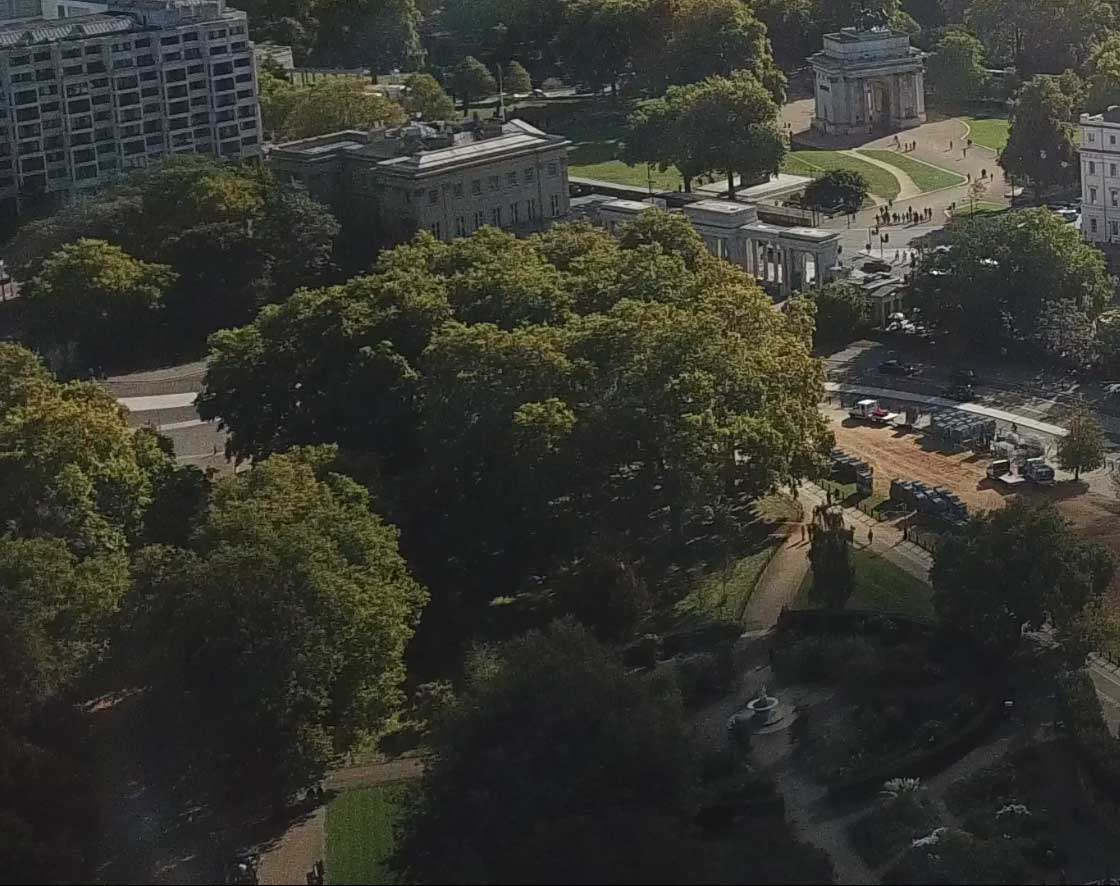building: (1, 4, 271, 185), (259, 110, 593, 219), (666, 199, 879, 293), (808, 22, 942, 131)
trees: (212, 238, 849, 559), (6, 399, 401, 786), (578, 16, 800, 192)
